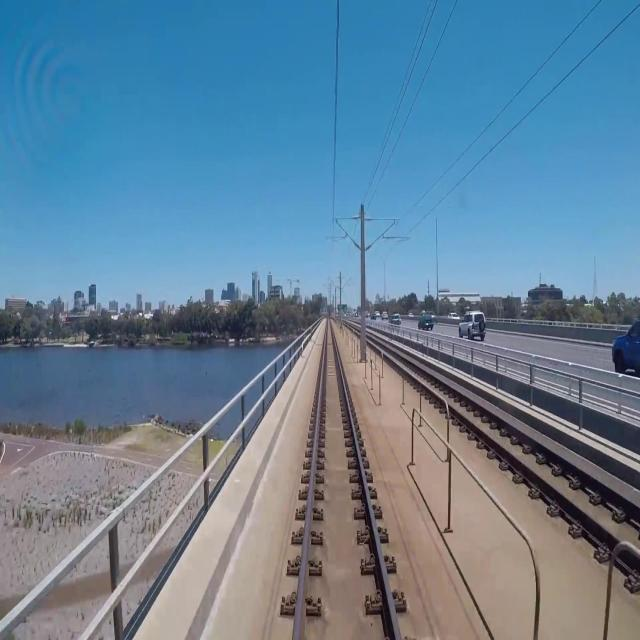rail-track: (373, 342, 640, 548), (299, 320, 395, 639)
